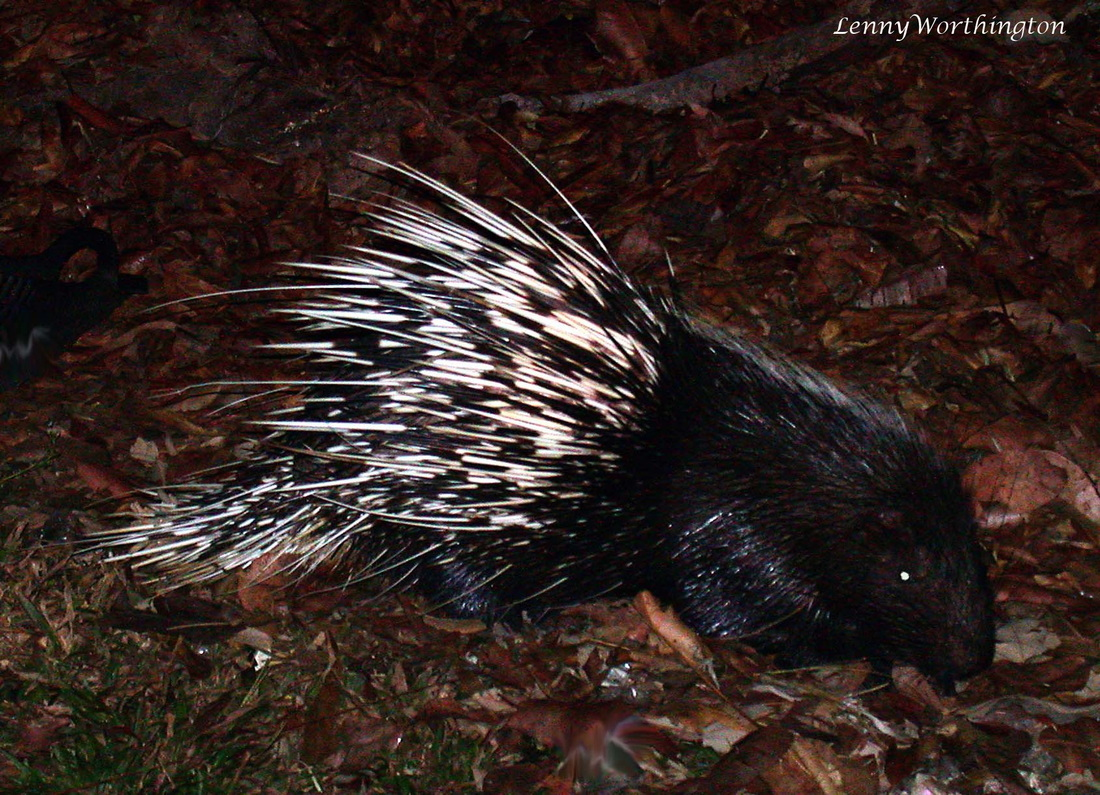porcupine: (112, 147, 1009, 691)
